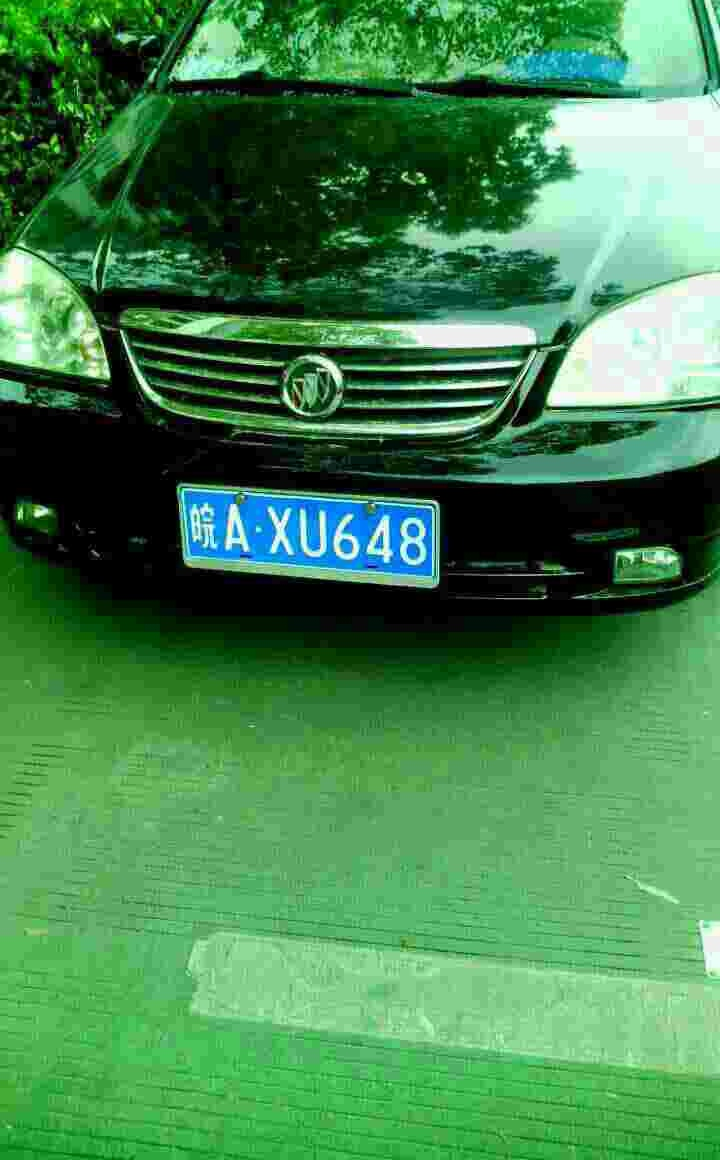license_plate: (192, 492, 446, 580)
